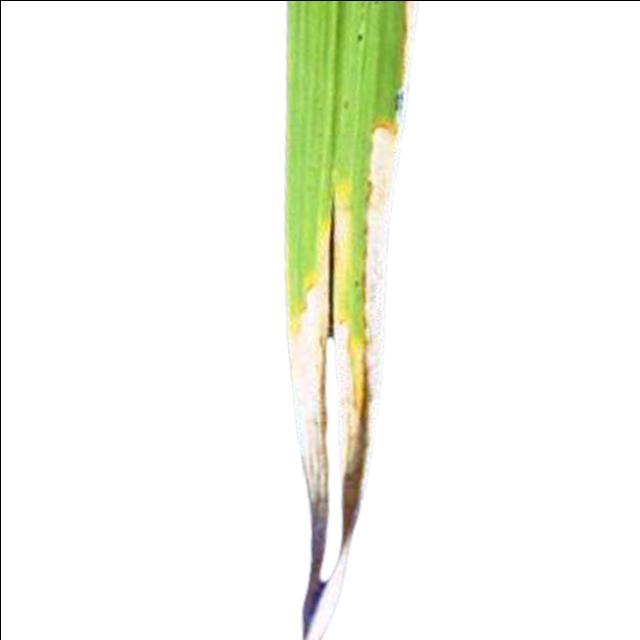Leaf scald: (218, 0, 503, 640)
